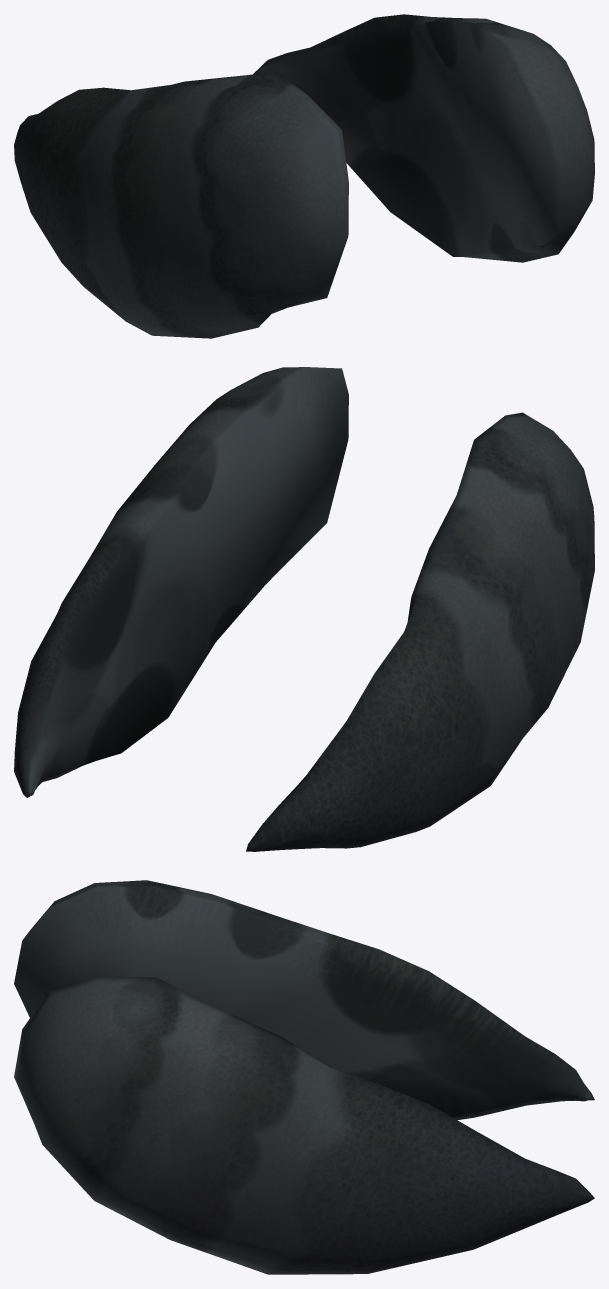
The model's file is wings parent.fbx.
The picture shows the model from 3 angles, top to bottom: view 1: azimuth 30°, elevation 25°; view 2: azimuth 150°, elevation 25°; view 3: azimuth 270°, elevation 25°; orthographic projection. The views are drawn at different scales.
Visible parts, largest first — view 1: pigeon wings.002, pigeon wings; view 2: pigeon wings.002, pigeon wings; view 3: pigeon wings, pigeon wings.002.
Part boxes in pixels (box(x1,y1,x2,y2)): pigeon wings.002: box(14, 72, 348, 338); pigeon wings: box(253, 14, 594, 262); pigeon wings.002: box(246, 412, 594, 851); pigeon wings: box(14, 367, 348, 797); pigeon wings: box(14, 976, 594, 1274); pigeon wings.002: box(14, 880, 594, 1120).
Bounding box in the file's own units: 66.39 × 88.47 × 45.73.
